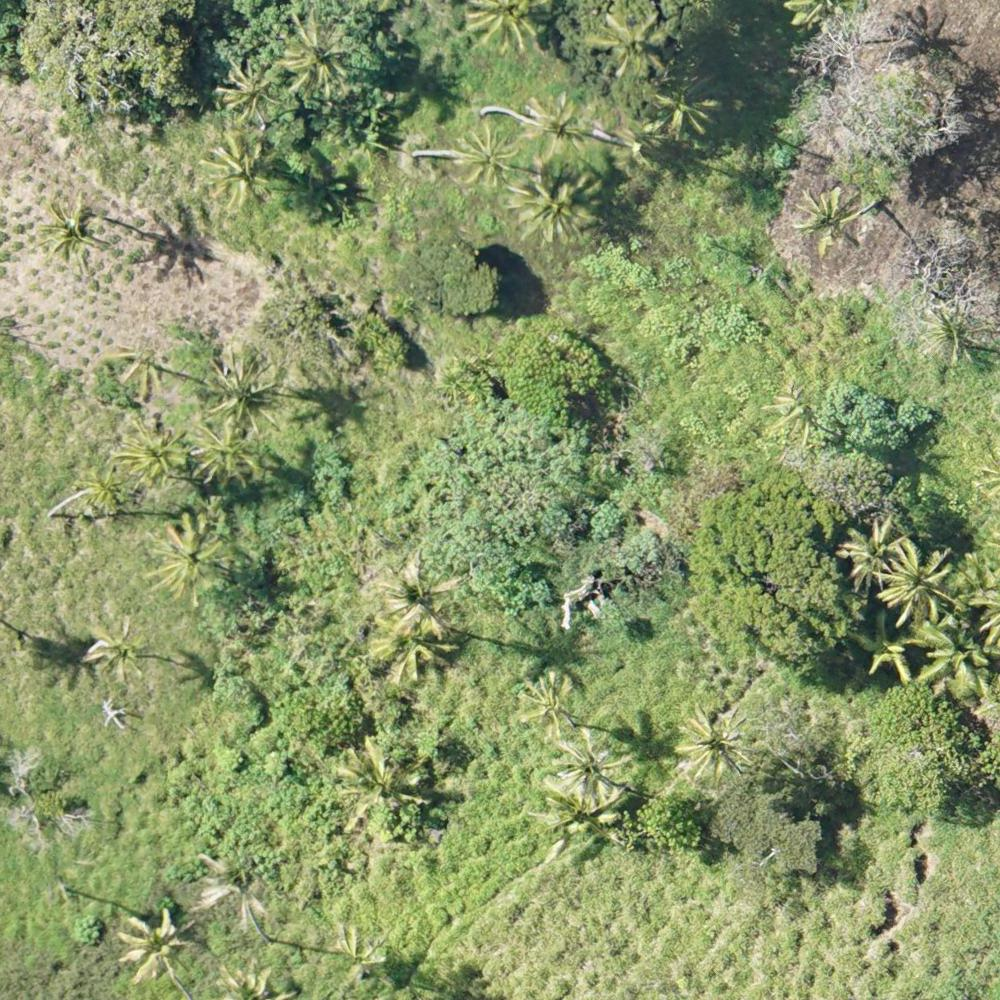Palm: (149, 513, 237, 610), (373, 554, 468, 643), (336, 741, 433, 828), (202, 346, 291, 433), (507, 166, 602, 242), (670, 700, 748, 781), (279, 13, 356, 93), (204, 128, 276, 207), (591, 8, 673, 76), (552, 735, 628, 808), (37, 192, 109, 268), (884, 542, 953, 621), (921, 617, 995, 688), (112, 418, 192, 482), (509, 668, 581, 738), (836, 515, 906, 584), (120, 914, 187, 984), (83, 613, 149, 682), (918, 294, 987, 359), (220, 57, 285, 123), (455, 119, 519, 184), (526, 94, 590, 158), (799, 190, 864, 252), (192, 431, 257, 489), (648, 90, 721, 141), (72, 461, 133, 519)
